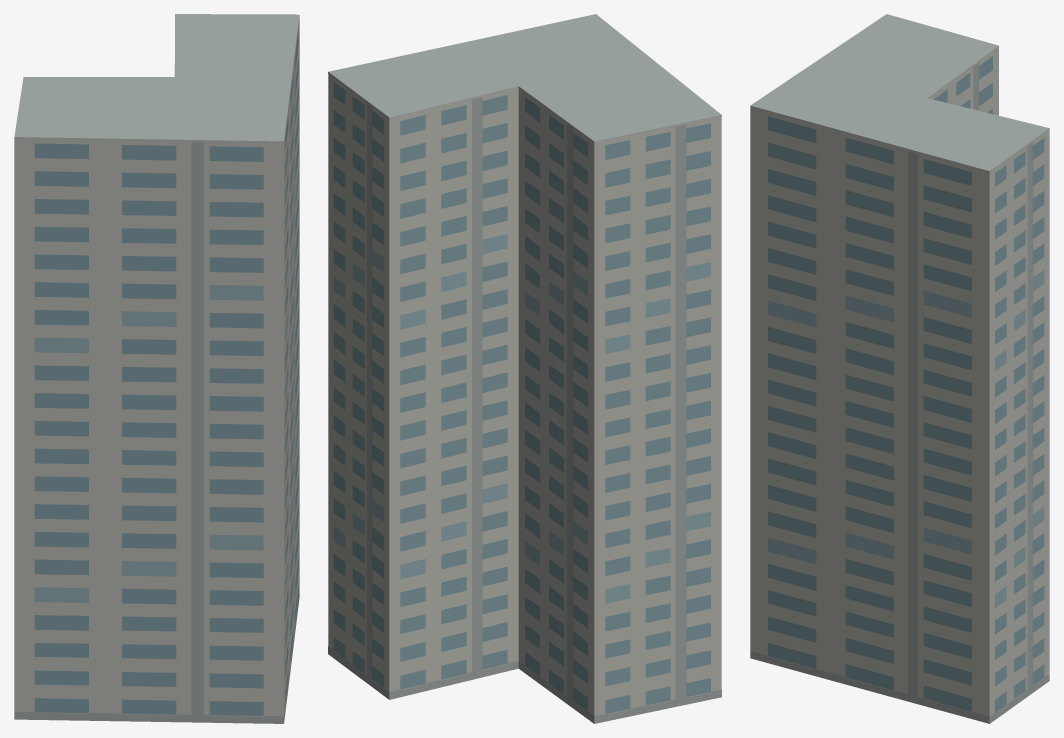
File: residential-c5c3c5da-eebc-46e1-9f8e-b8e2aeb1bef7.glb
The picture shows the model from 3 angles, left to right: view 1: azimuth 30°, elevation 25°; view 2: azimuth 150°, elevation 25°; view 3: azimuth 270°, elevation 25°; orthographic projection. The views are drawn at different scales.
Parts seen in each view (by area): view 1: residential-c5c3c5da-eebc-46e1-9f8e-b8e2aeb1bef7.tmp; view 2: residential-c5c3c5da-eebc-46e1-9f8e-b8e2aeb1bef7.tmp; view 3: residential-c5c3c5da-eebc-46e1-9f8e-b8e2aeb1bef7.tmp.
Boxes of the visible parts, x1,y1,x2,y2 form: residential-c5c3c5da-eebc-46e1-9f8e-b8e2aeb1bef7.tmp: (14,14,299,723); residential-c5c3c5da-eebc-46e1-9f8e-b8e2aeb1bef7.tmp: (328,14,721,723); residential-c5c3c5da-eebc-46e1-9f8e-b8e2aeb1bef7.tmp: (750,14,1049,723).
Bounding box in the file's own units: 37.82 × 62 × 30.44.
